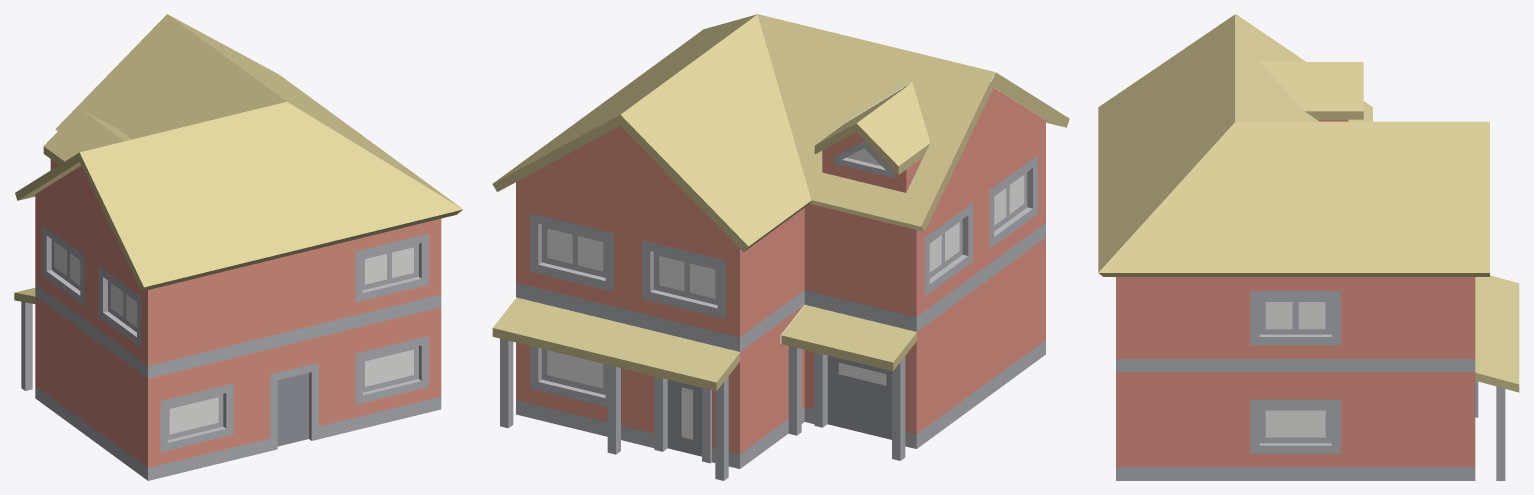
Rendered from house.glb.
3 views of the same model, side by side, from view 1: azimuth 30°, elevation 25°; view 2: azimuth 150°, elevation 25°; view 3: azimuth 270°, elevation 25° (orthographic). The views are drawn at different scales.
Visible parts, largest first — view 1: roof, wall, window, main_house; view 2: wall, main_house, roof, window; view 3: roof, wall, main_house, window.
Part boxes in pixels (x1,y1,x2,y2): roof: [14, 14, 463, 303]; wall: [35, 159, 441, 467]; window: [42, 225, 428, 452]; main_house: [21, 283, 441, 480]; wall: [516, 85, 1045, 454]; main_house: [500, 14, 1045, 480]; roof: [492, 14, 1069, 391]; window: [530, 155, 1037, 407]; roof: [1098, 14, 1519, 392]; wall: [1116, 277, 1475, 467]; main_house: [1116, 14, 1505, 480]; window: [1250, 291, 1340, 453].
Bounding box in the file's own units: 1.31 × 1.14 × 1.41.
